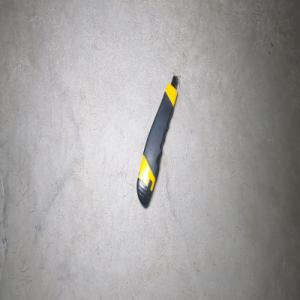Cutter: (136, 74, 179, 208)
